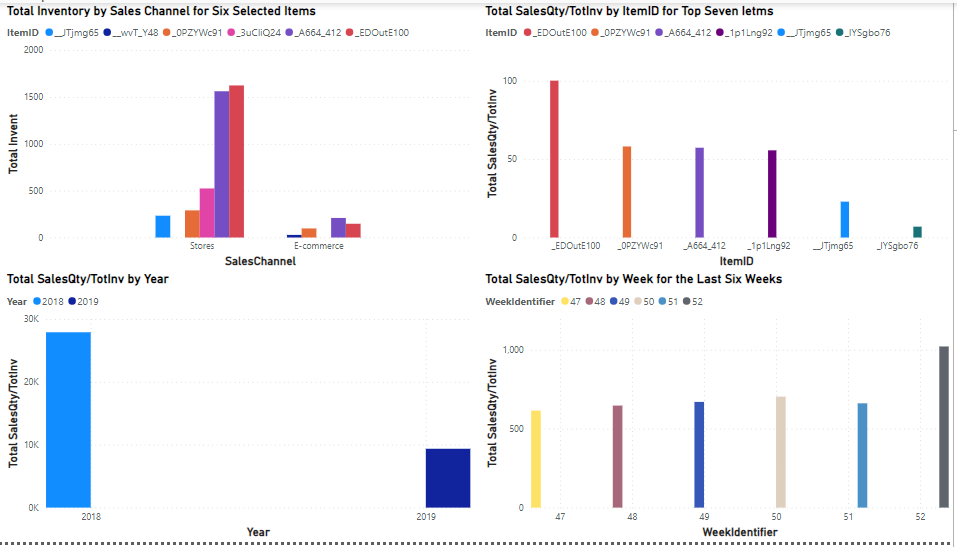

The page's visual inventory and layout, read from the dashboard file:
{"tool":"powerbi","page":{"name":"Page 7","canvas":[1280,720],"ordinal":6},"visuals":[{"type":"clusteredColumnChart","title":"Total Inventory by Sales Channel for Six Selected Items  ","fields":{"Y":["factSales.Total Invent"],"Category":["dimChannels.SalesChannel"],"Series":["factSales.ItemID"]},"box":[10.3,0,629.6,358.8],"z":0},{"type":"clusteredColumnChart","title":"Total SalesQty/TotInv by Week for the Last Six Weeks","fields":{"Category":["dimDates.WeekIdentifier"],"Y":["factSales.Total SalesQty/TotInv"],"Series":["dimDates.WeekIdentifier"]},"box":[650.3,358.8,629.6,360.5],"z":1000},{"type":"clusteredColumnChart","title":"Total SalesQty/TotInv by Year","fields":{"Category":["dimDates.Year"],"Y":["factSales.Total SalesQty/TotInv"],"Series":["dimDates.Year"]},"box":[10.3,358.8,629.6,360.5],"z":2000},{"type":"clusteredColumnChart","title":"Total SalesQty/TotInv by ItemID for Top Seven Ietms","fields":{"Series":["factSales.ItemID"],"Category":["factSales.ItemID"],"Y":["factSales.Total SalesQty/TotInv"]},"box":[650.3,0,629.6,358.8],"z":3000}]}

Visuals, with their boxes in screenshot pixels (x1, y1, x2, y2), scaled from the page's 1280x720 canvas onto the 957x547 screenshot:
"Total Inventory by Sales Channel for Six Selected Items  " clusteredColumnChart: <region>8, 0, 478, 273</region>
"Total SalesQty/TotInv by Week for the Last Six Weeks" clusteredColumnChart: <region>486, 273, 956, 546</region>
"Total SalesQty/TotInv by Year" clusteredColumnChart: <region>8, 273, 478, 546</region>
"Total SalesQty/TotInv by ItemID for Top Seven Ietms" clusteredColumnChart: <region>486, 0, 956, 273</region>
